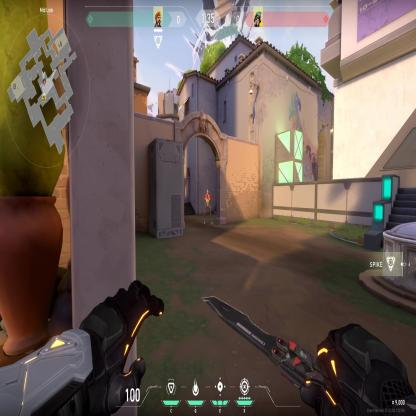enemy: (203, 188, 213, 225)
